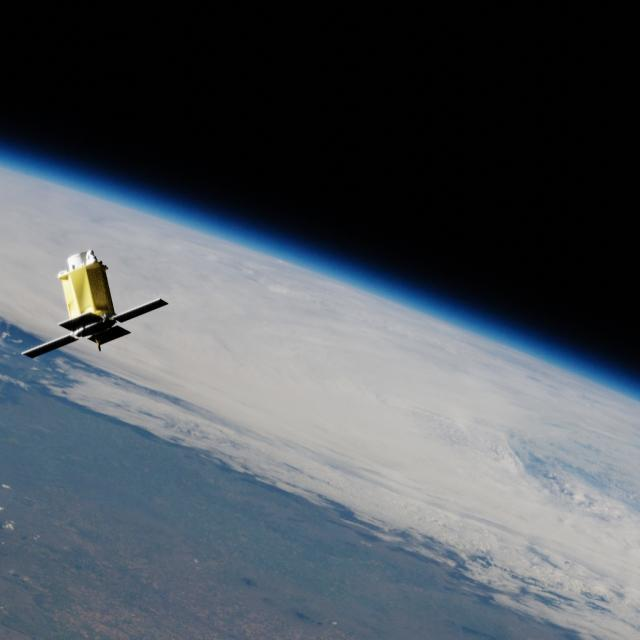satellite: (12, 222, 183, 370)
